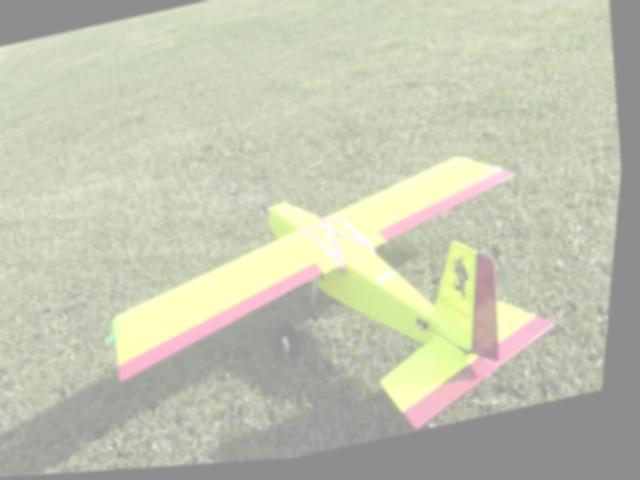plane: (91, 139, 587, 473)
